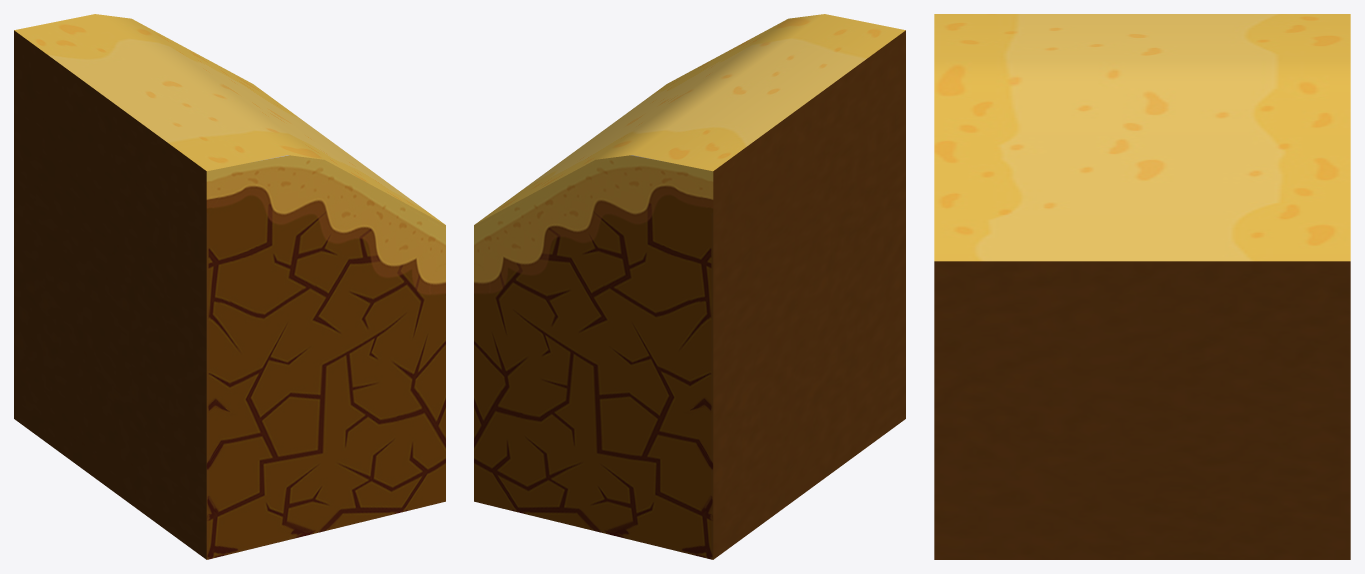
Rendered from Desert_R_6.fbx.
The picture shows the model from 3 angles, left to right: view 1: azimuth 30°, elevation 25°; view 2: azimuth 150°, elevation 25°; view 3: azimuth 270°, elevation 25°; orthographic projection. The views are drawn at different scales.
Parts seen in each view (by area): view 1: Desert_R_6; view 2: Desert_R_6; view 3: Desert_R_6.
Part boxes in pixels (box(x1,y1,x2,y2)): Desert_R_6: box(14, 14, 445, 559); Desert_R_6: box(474, 14, 905, 559); Desert_R_6: box(934, 14, 1350, 559).
Size of the model in its own units: 3.05 by 4.74 by 4.26.
Materials: 1 (1 with a texture image).
